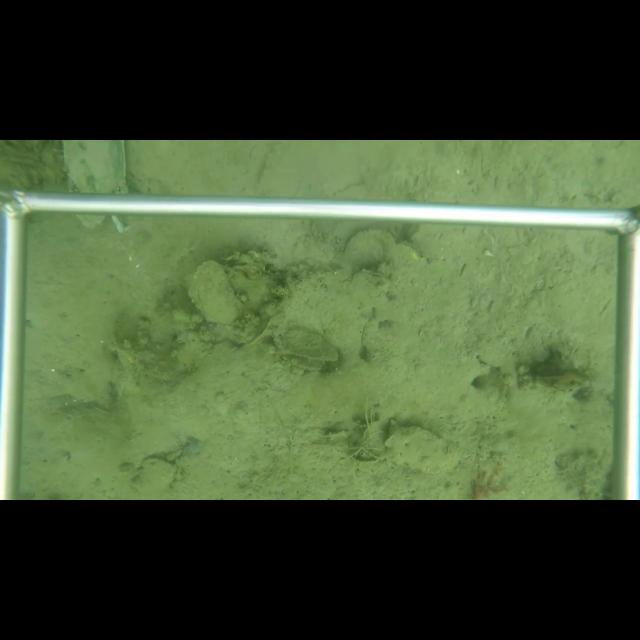Oyster-Closed: (383, 413, 465, 478), (186, 259, 258, 325), (61, 140, 129, 196), (342, 228, 431, 269), (128, 453, 184, 498)
Oyster-Open: (277, 346, 344, 374)
